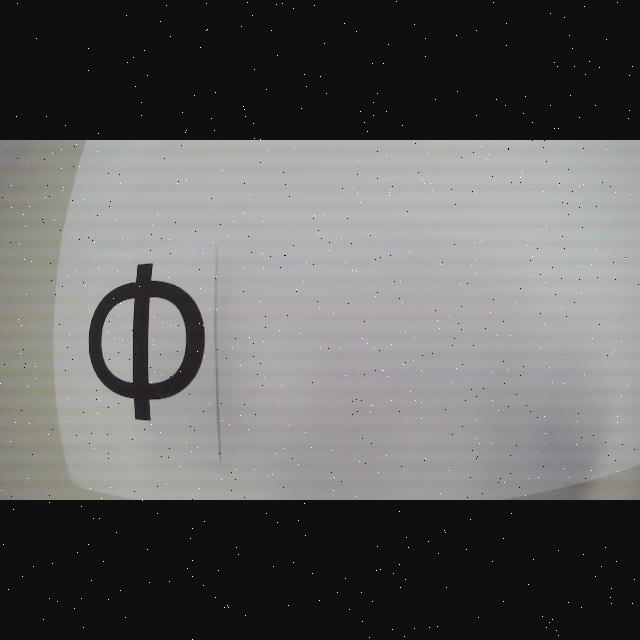PHI: (88, 263, 206, 422)
